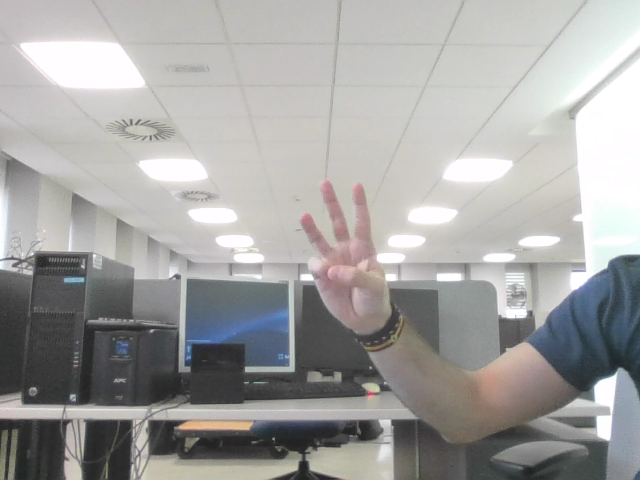3Dedos: (310, 194, 372, 299)
